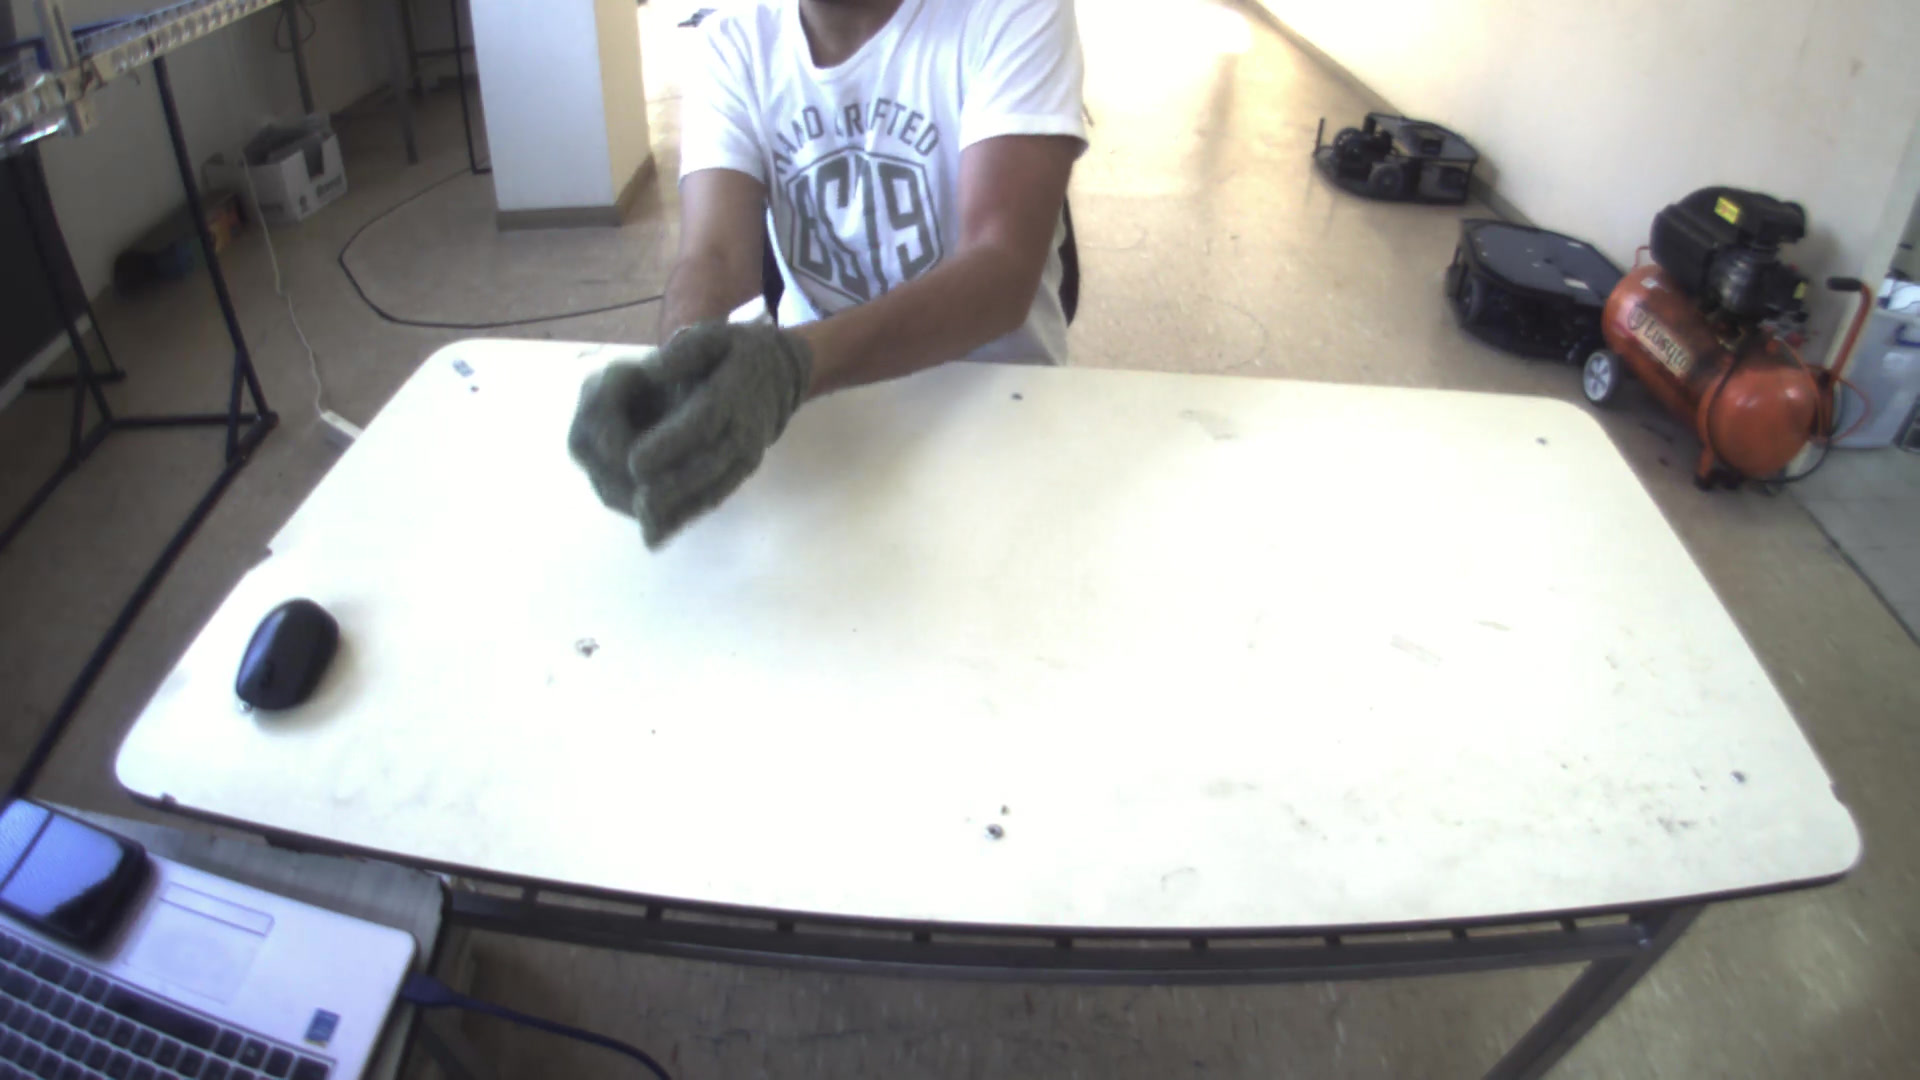hand: (626, 306, 811, 567)
